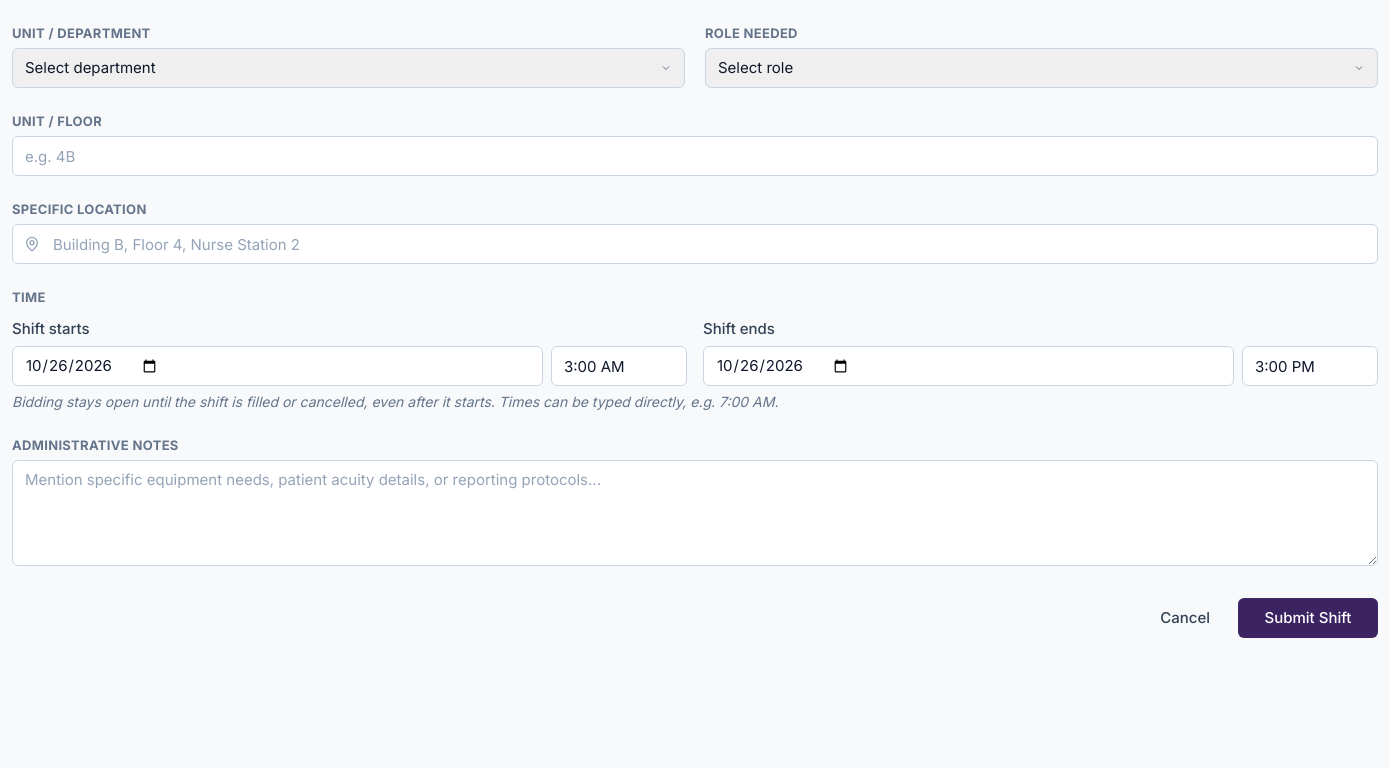
Test: ShiftForm › blocks a shift start that is already in the past
Select "Emergency (ED)" in the dropdown labelled "Unit / Department" at x=348, y=68, box [12, 48, 685, 88]
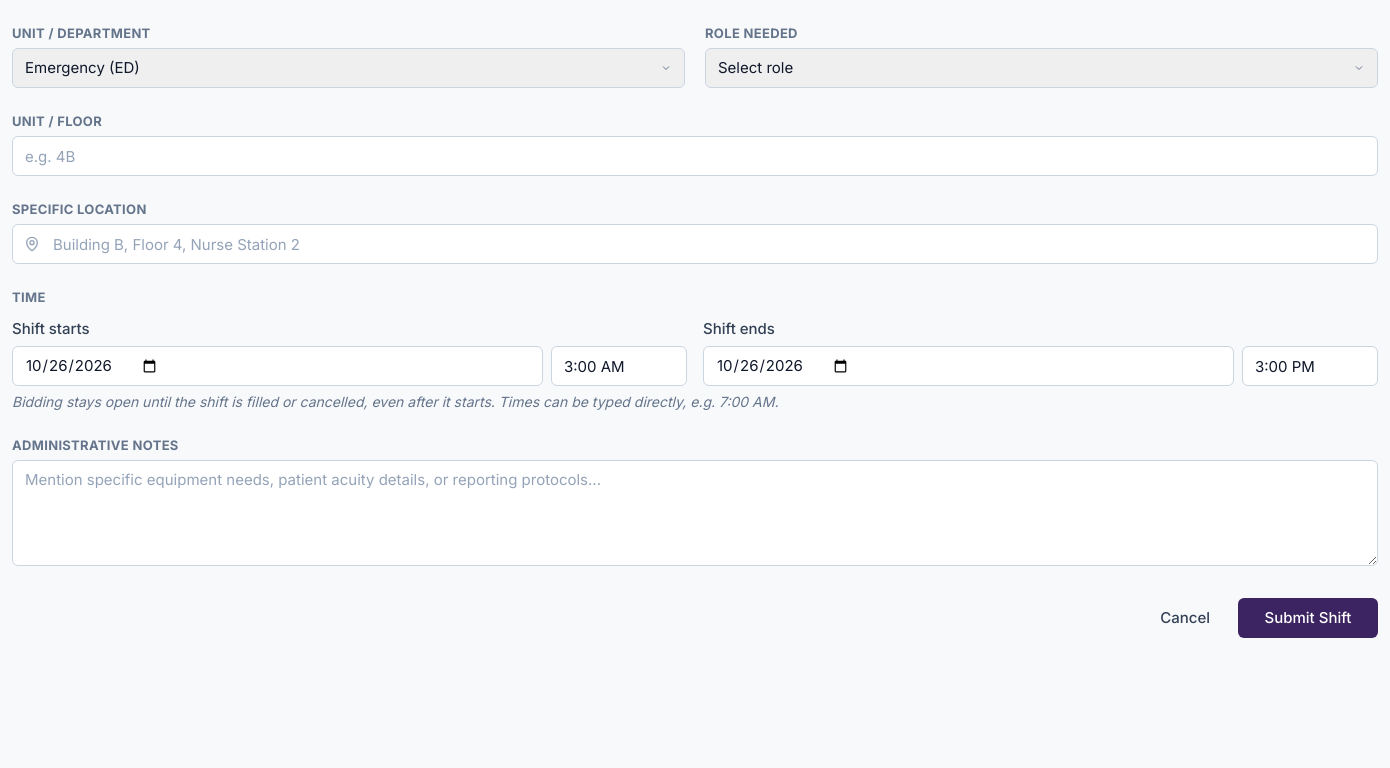
Select "Emergency MD" in the dropdown labelled "Role needed" at x=1042, y=68, box [705, 48, 1378, 88]
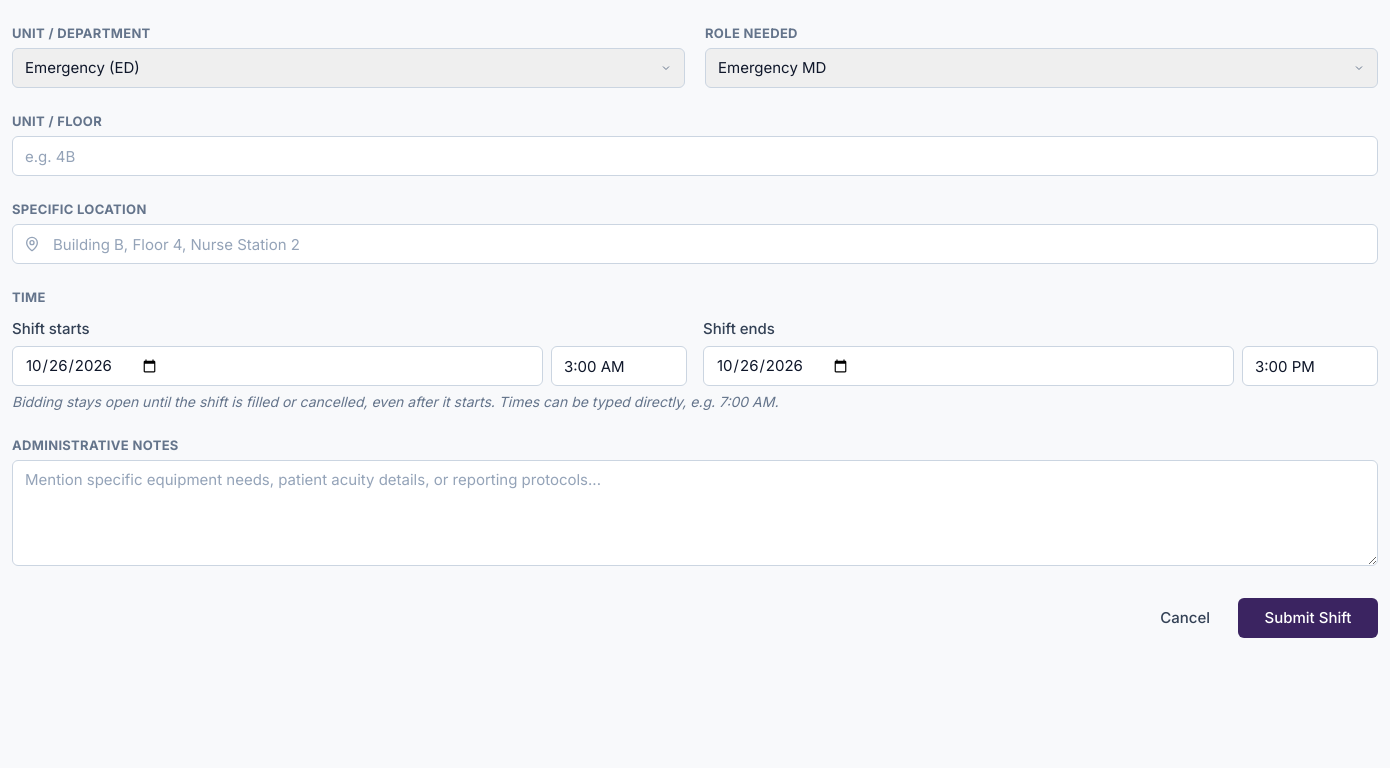
Type "4B" into the field labelled "Unit / floor" at x=695, y=156, box [12, 136, 1378, 176]
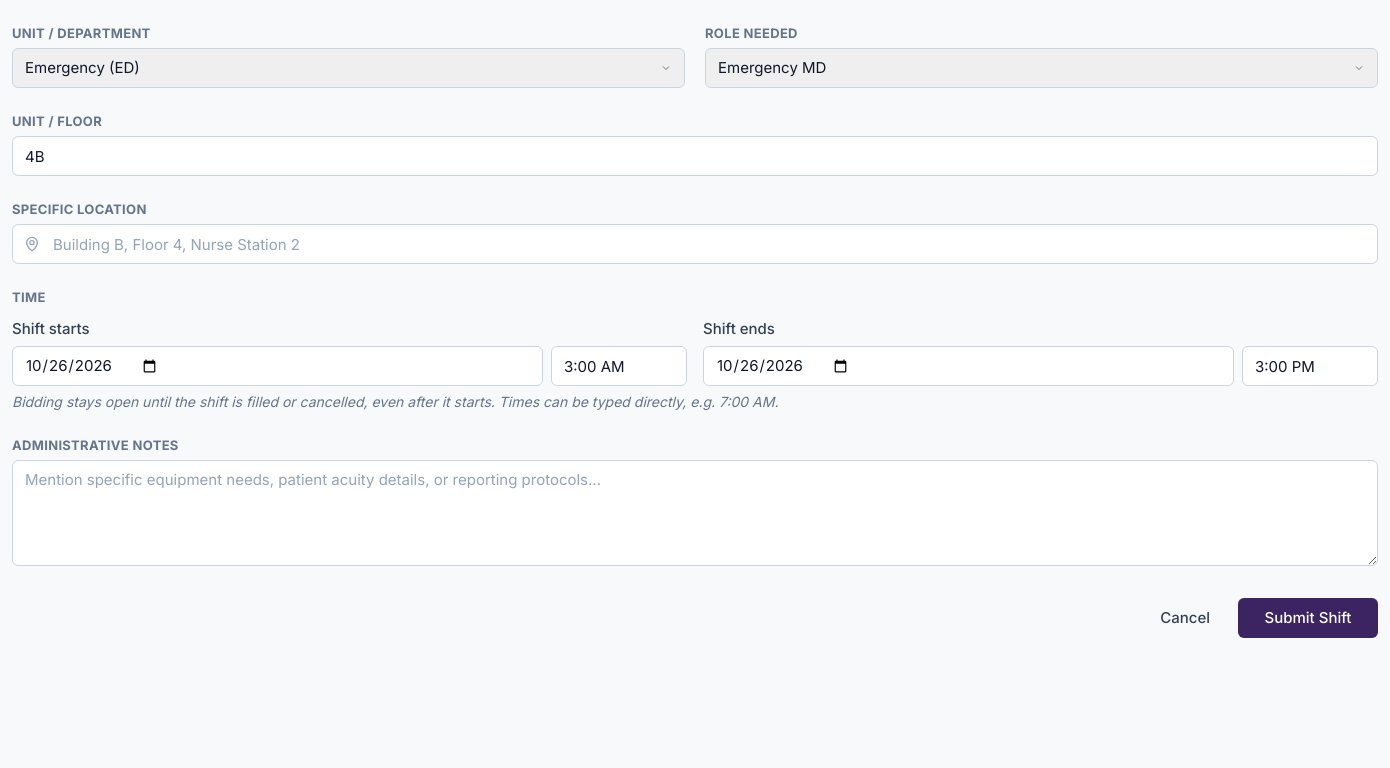
Type "Building B" into the field labelled "Specific location" at x=695, y=244, box [12, 224, 1378, 264]
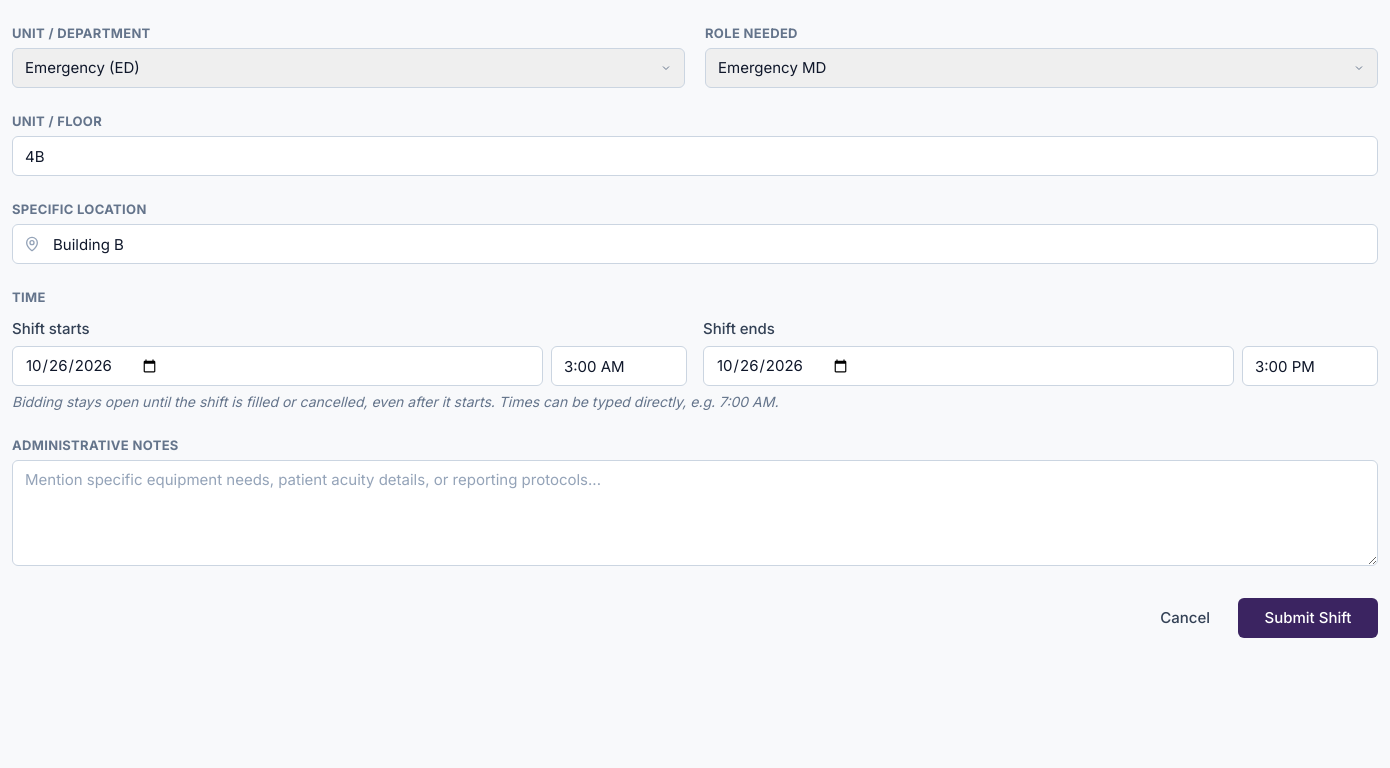
Type "2020-01-01" into the date field labelled "Shift starts" at x=278, y=366, box [12, 346, 543, 386]
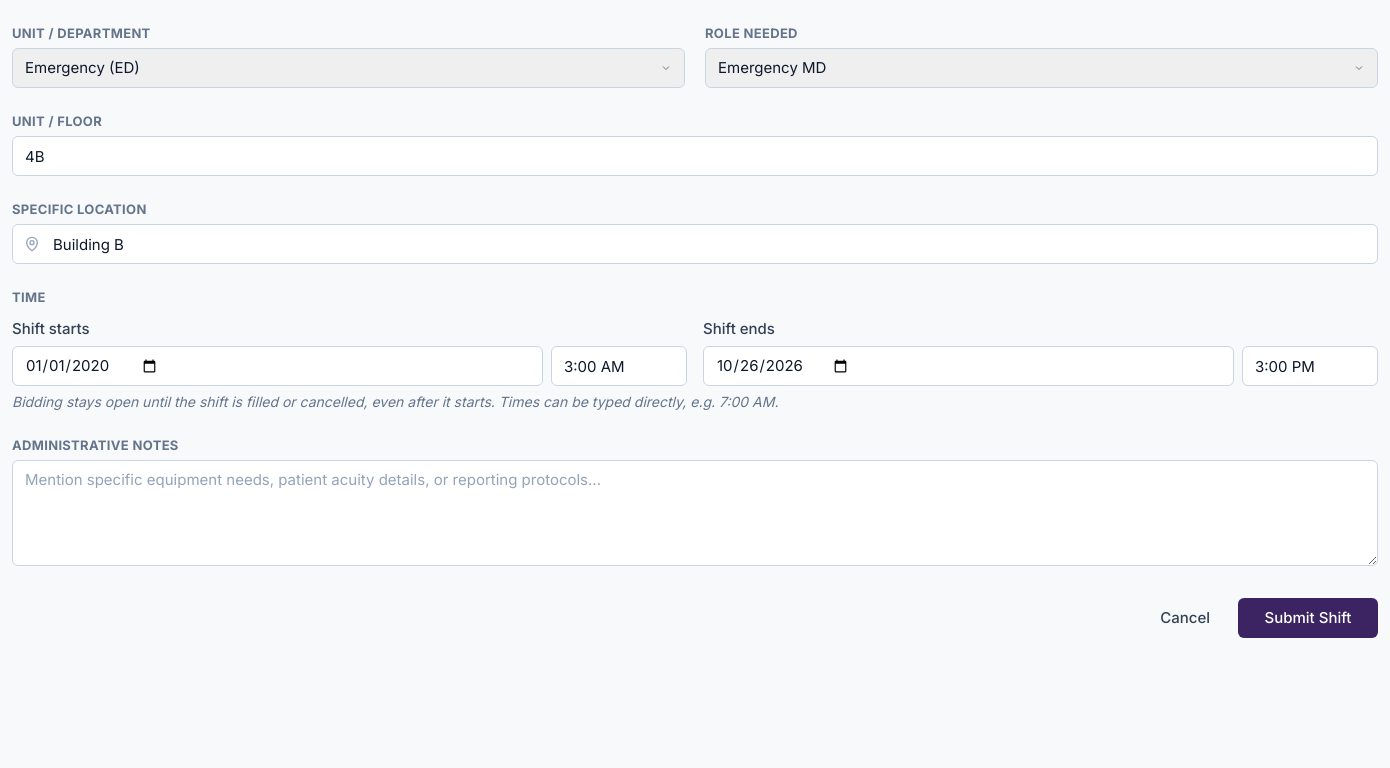
Click the button "Submit Shift" at x=1308, y=618, box [1238, 598, 1378, 638]
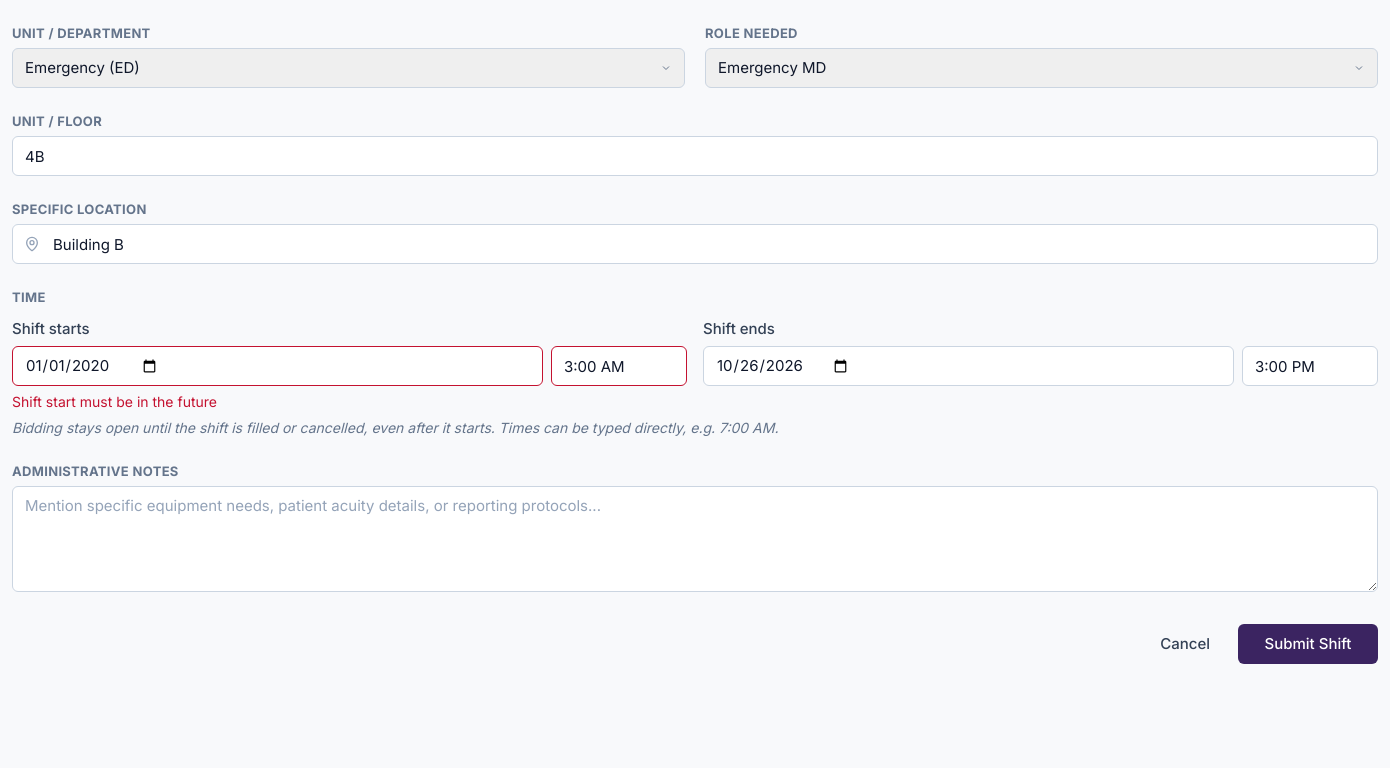
Result: the text "Shift start must be in the future" is shown at [12, 393, 217, 410]
